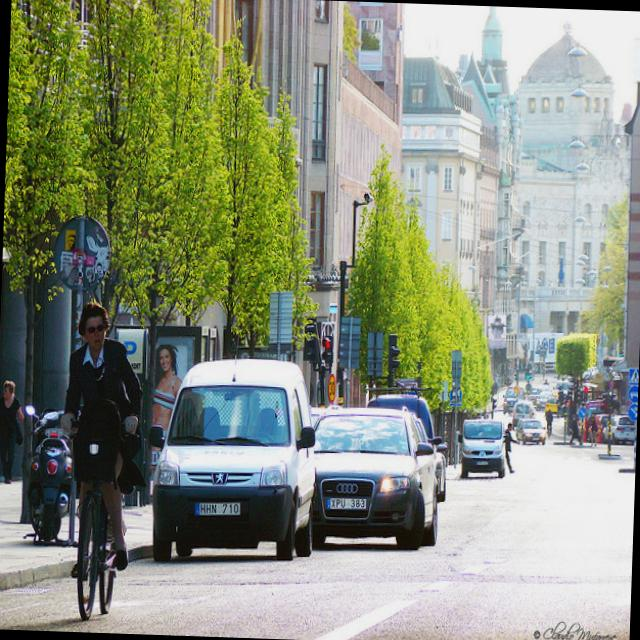Vehicle: (144, 354, 320, 568), (144, 353, 320, 562), (310, 398, 445, 551), (360, 383, 452, 492), (19, 401, 74, 543), (456, 418, 509, 480), (456, 417, 508, 480), (601, 414, 635, 442), (515, 418, 546, 444), (535, 388, 550, 410), (545, 396, 558, 416), (553, 381, 569, 396)
